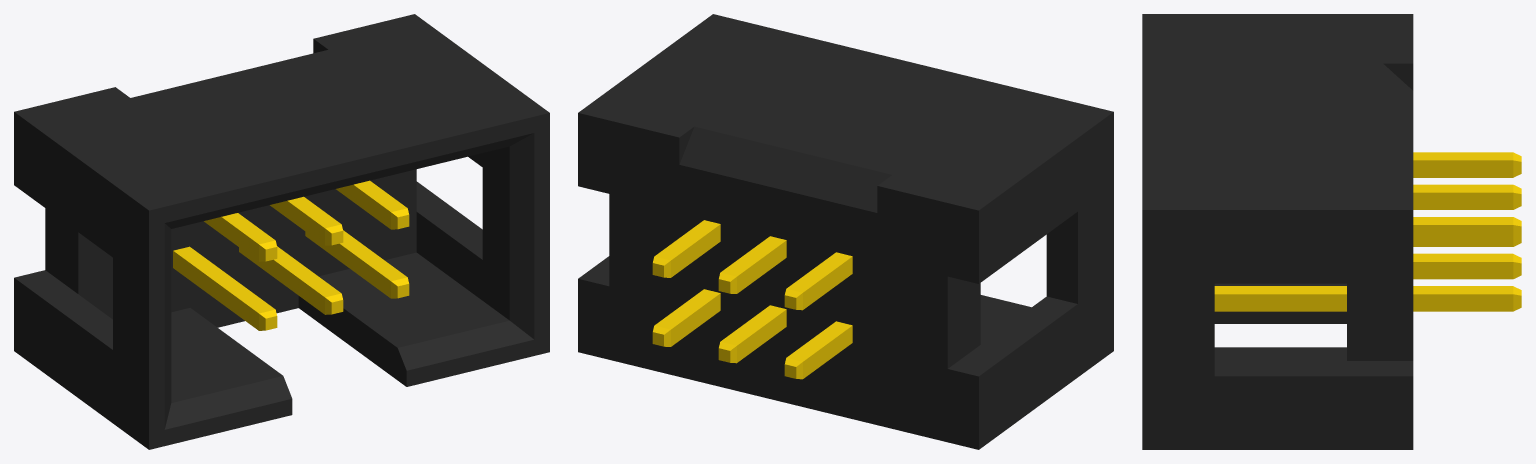
The model's file is DS1013-6S (IDC-6MS CONNFLY).obj.
The picture shows the model from 3 angles, left to right: view 1: azimuth 30°, elevation 25°; view 2: azimuth 150°, elevation 25°; view 3: azimuth 270°, elevation 25°; orthographic projection.
Visible parts, largest first — view 1: DS1013-6S_(IDC-6MS_CONNFLY); view 2: DS1013-6S_(IDC-6MS_CONNFLY); view 3: DS1013-6S_(IDC-6MS_CONNFLY).
Part boxes in pixels (bbox=[...]): DS1013-6S_(IDC-6MS_CONNFLY): bbox=[14, 14, 549, 449]; DS1013-6S_(IDC-6MS_CONNFLY): bbox=[578, 14, 1113, 449]; DS1013-6S_(IDC-6MS_CONNFLY): bbox=[1142, 14, 1521, 449].
Bounding box in the file's own units: 0.0203 × 0.0116 × 0.0166.
